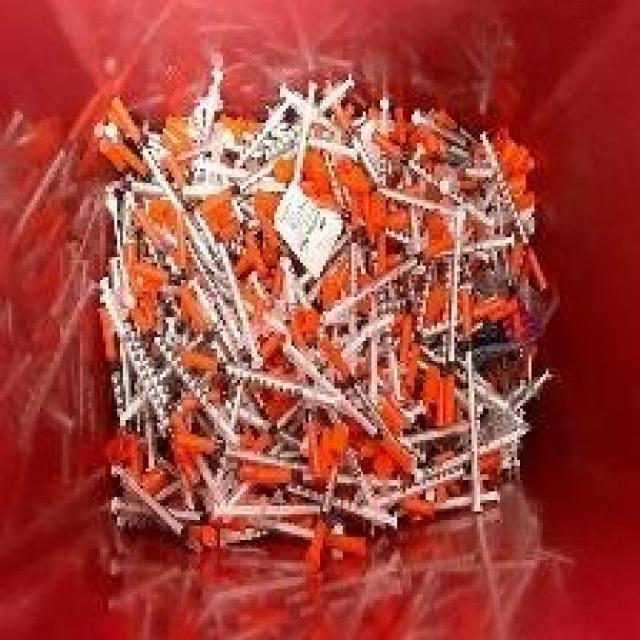syringe: (81, 79, 554, 545)
